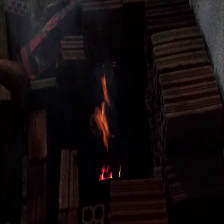fire_h: (93, 74, 110, 149)
fire_l: (100, 166, 112, 180), (118, 166, 121, 177)
